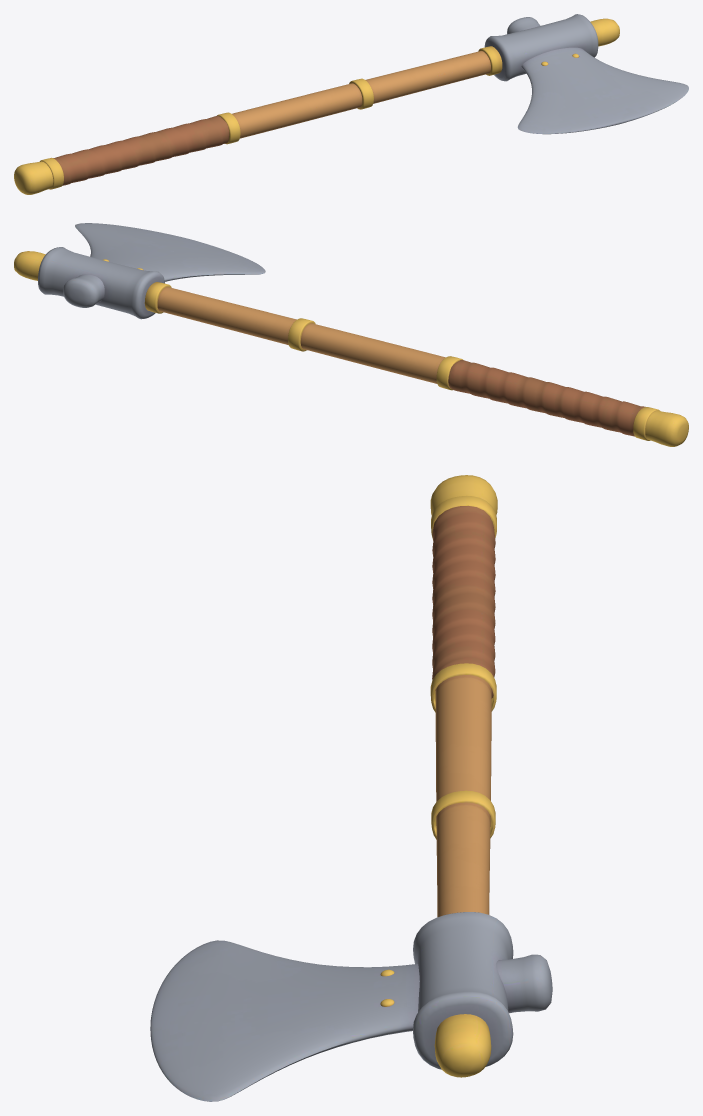
The model's file is battle-axe.glb.
The picture shows the model from 3 angles, top to bottom: view 1: azimuth 30°, elevation 25°; view 2: azimuth 150°, elevation 25°; view 3: azimuth 270°, elevation 25°; orthographic projection. The views are drawn at different scales.
Parts seen in each view (by area): view 1: battle-axe_body; view 2: battle-axe_body; view 3: battle-axe_body.
Boxes of the visible parts, x1=… form: battle-axe_body: x1=14, y1=14, x2=688, y2=194; battle-axe_body: x1=14, y1=223, x2=688, y2=446; battle-axe_body: x1=150, y1=475, x2=552, y2=1101.
Bounding box in the file's own units: 0.7906 × 0.05 × 0.227.
1 material, 1 textured.
